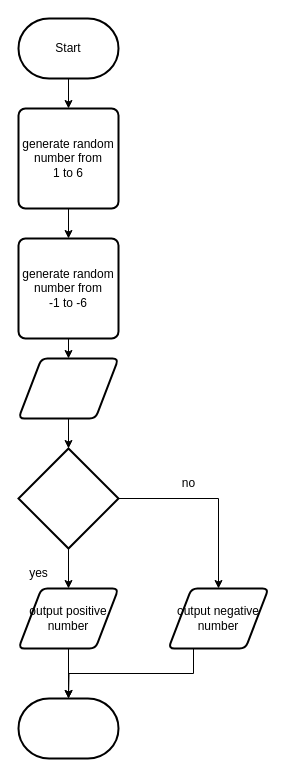
Some shapes in this 286 by 776 pixel diagram are drawn without their labels. The shapes that lost their labels are listed below. From the top down, each one's centre as x and y in pixels, then its label:
point 68,388: get radio value
point 68,498: if radio value == positive number checked
point 68,728: Stop
